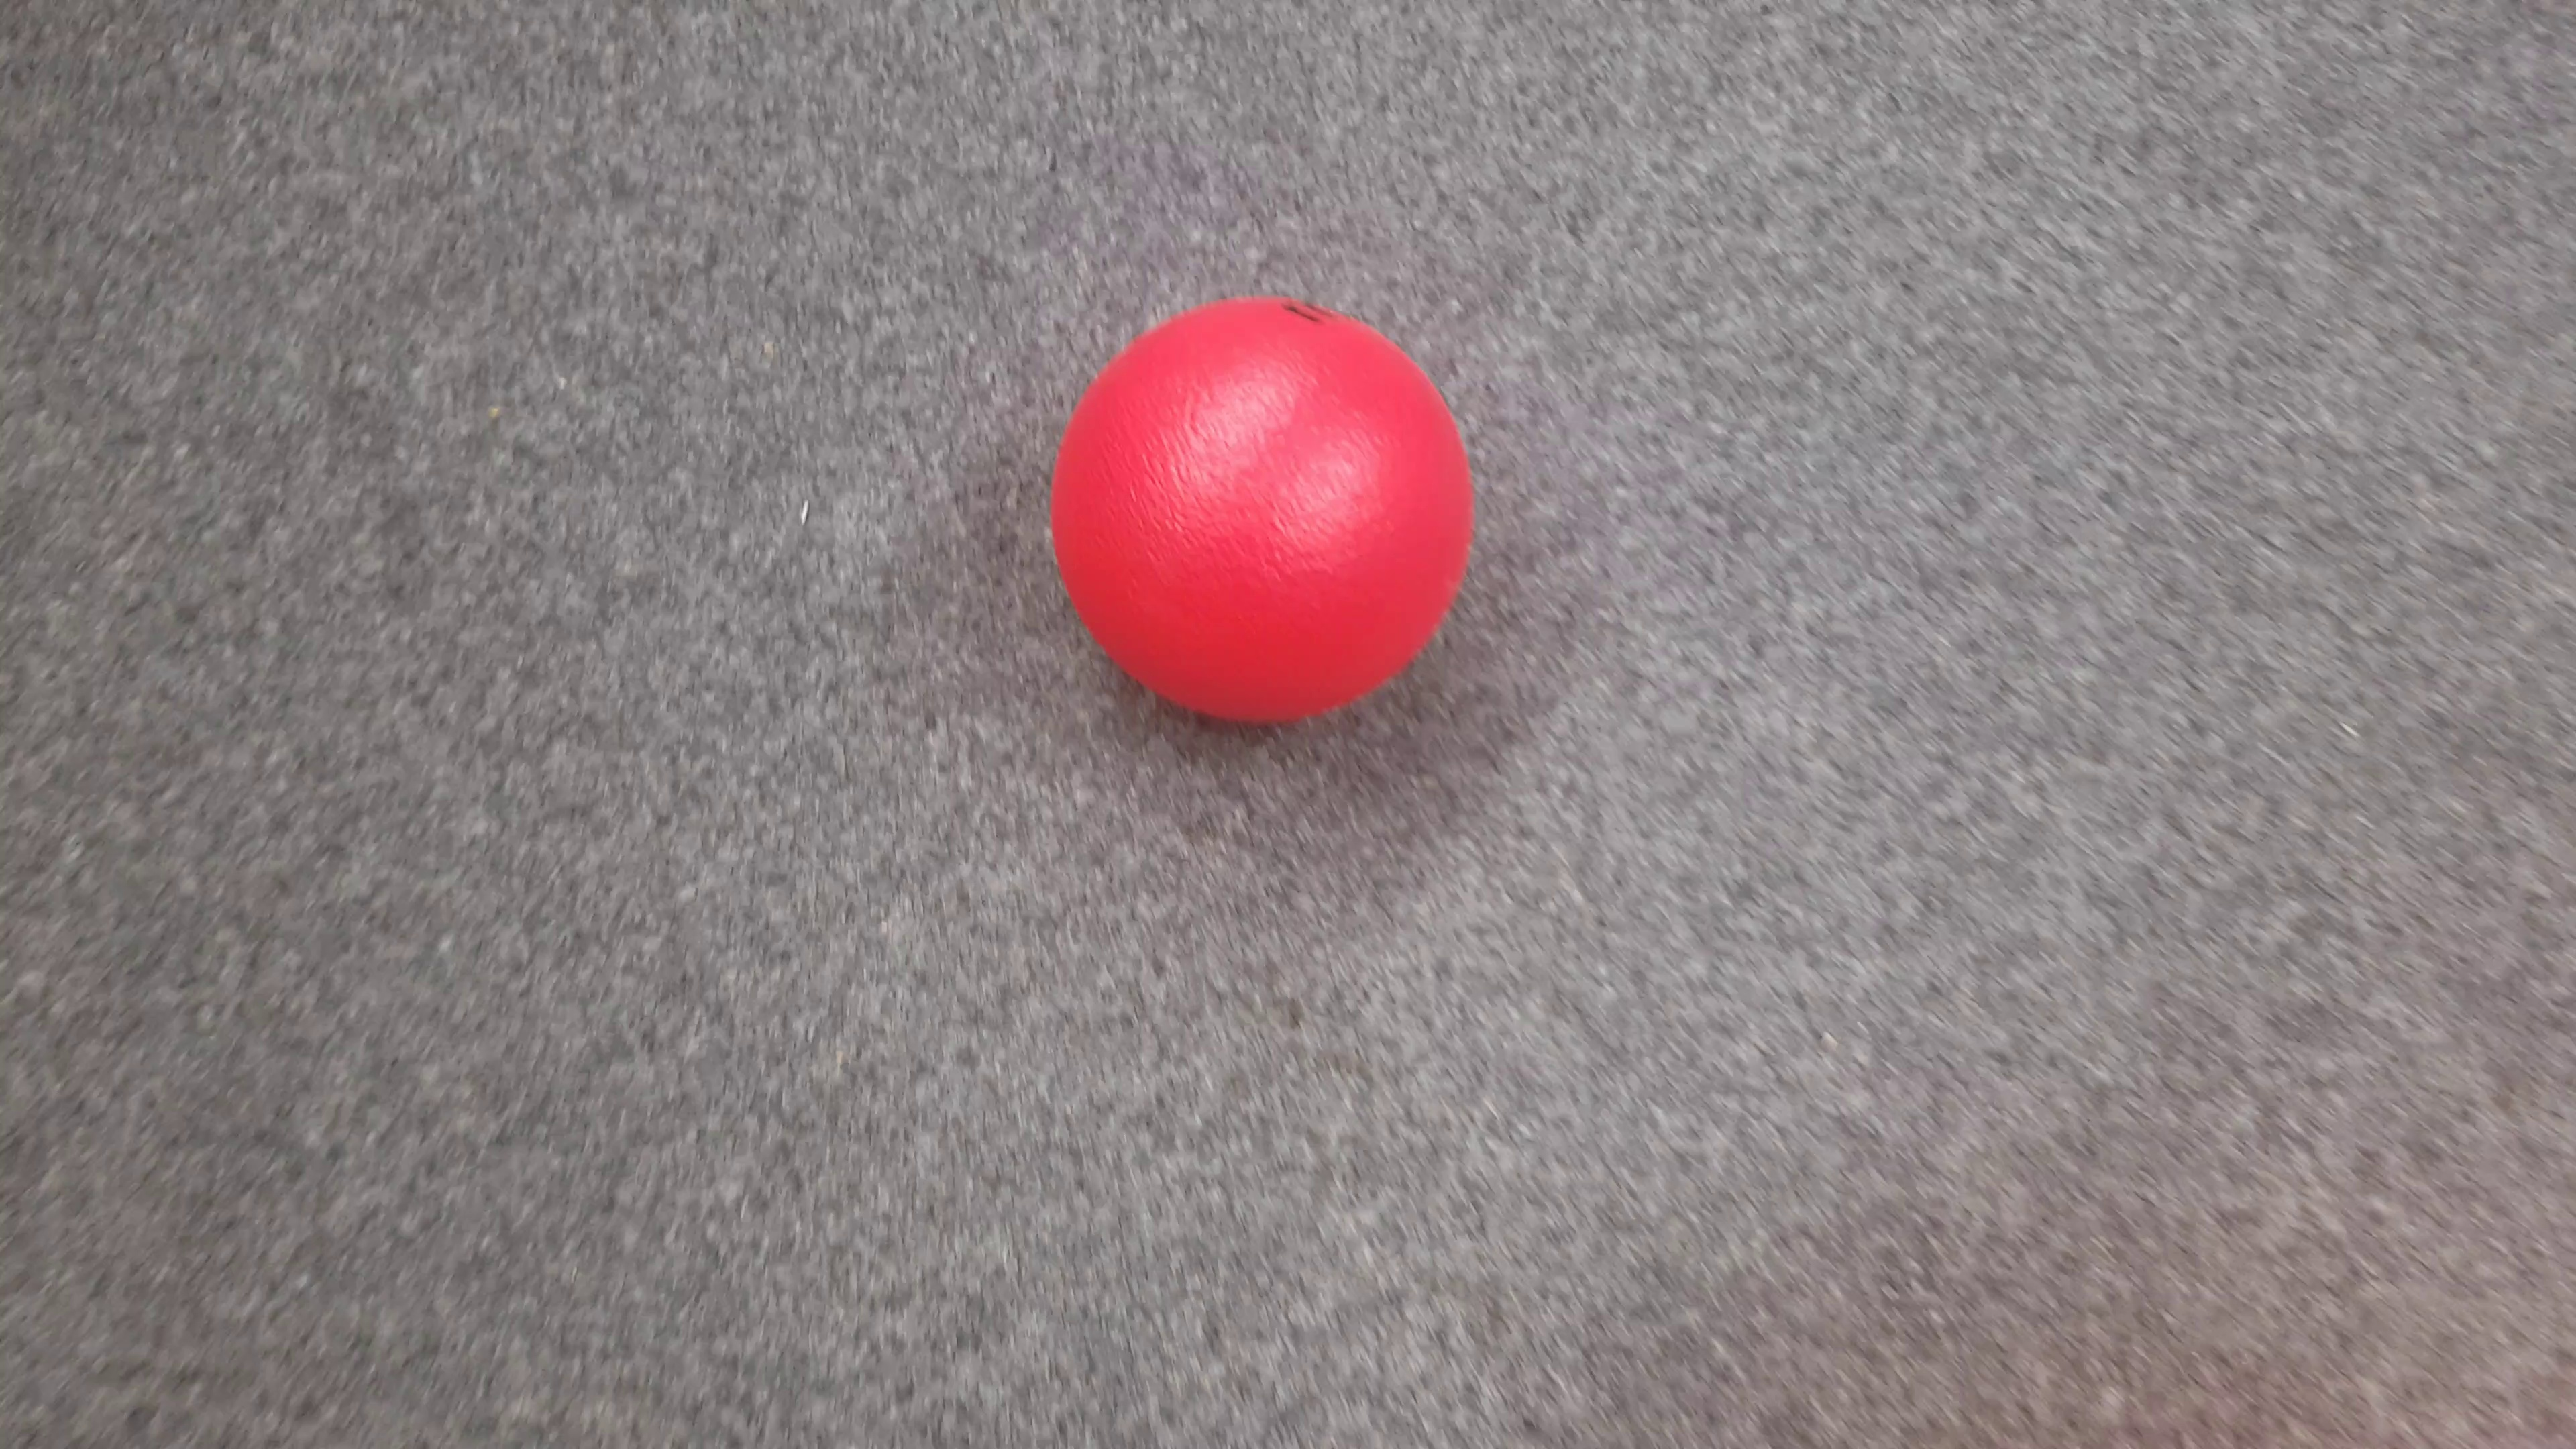kick: (1051, 294, 1481, 727)
